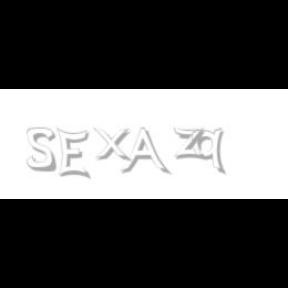A: (120, 128, 168, 176)
E: (56, 128, 90, 180)
S: (26, 128, 58, 172)
q: (191, 128, 227, 176)
x: (93, 128, 135, 162)
z: (173, 128, 209, 160)
